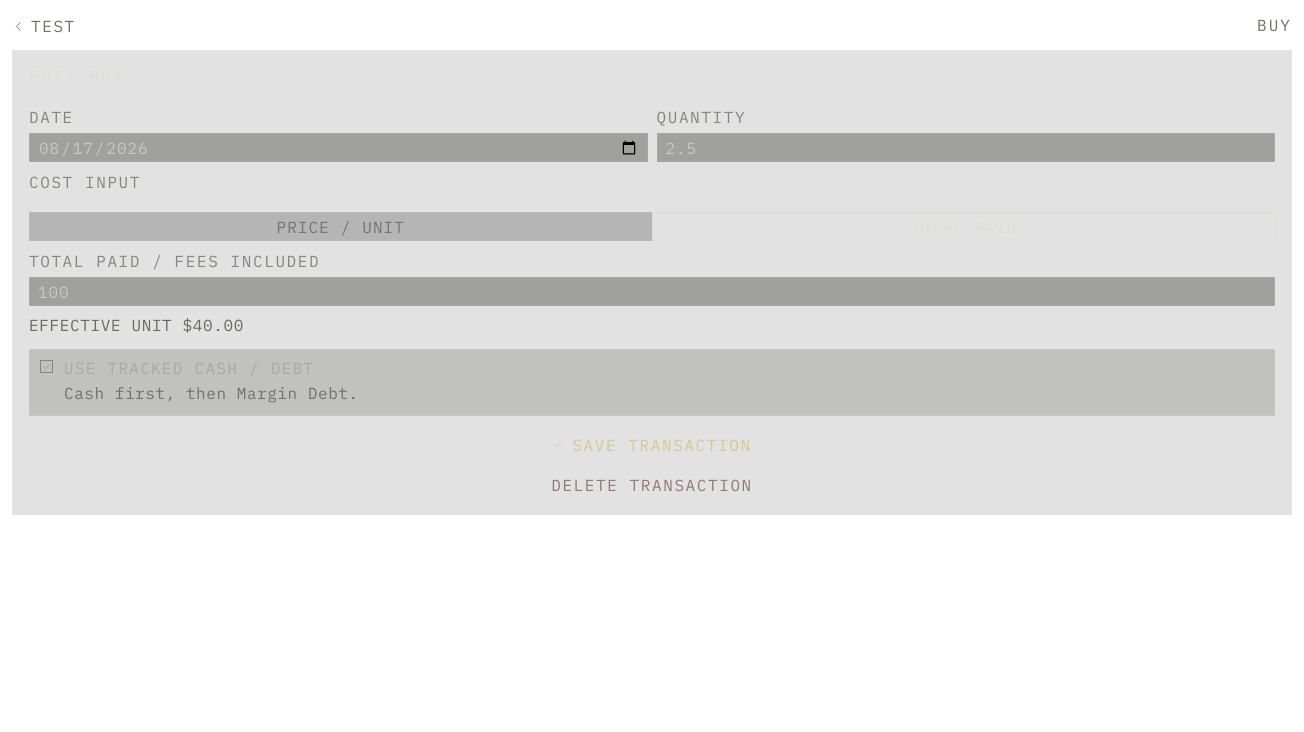
Test: per-trade Cash and Debt control › returns to position detail after a successful confirmed deletion
What coordinates should you click on to do the following:
click the button "DELETE TRANSACTION"
I would click on:
 (652, 485)
Its box is [29,471,1275,498].
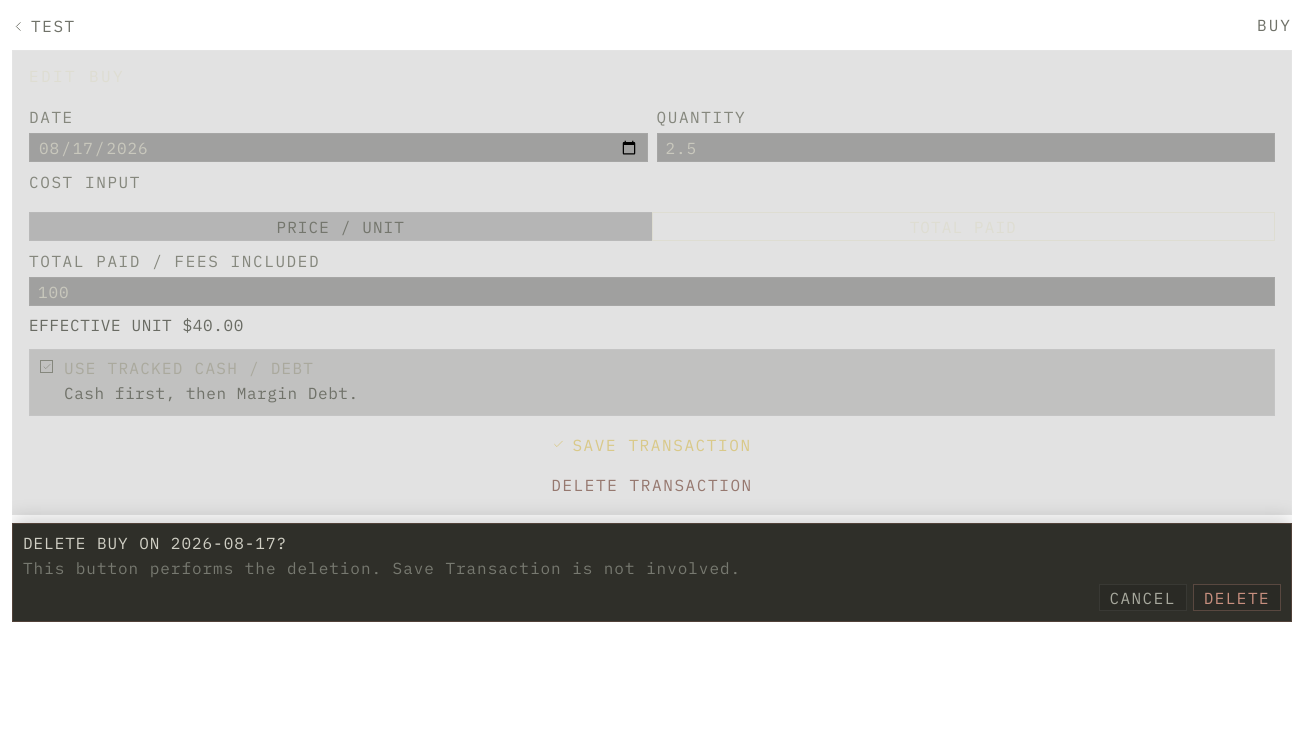
What coordinates should you click on to do the following:
click the button "DELETE"
I would click on:
 (1237, 598)
Its box is [1193,584,1281,611].
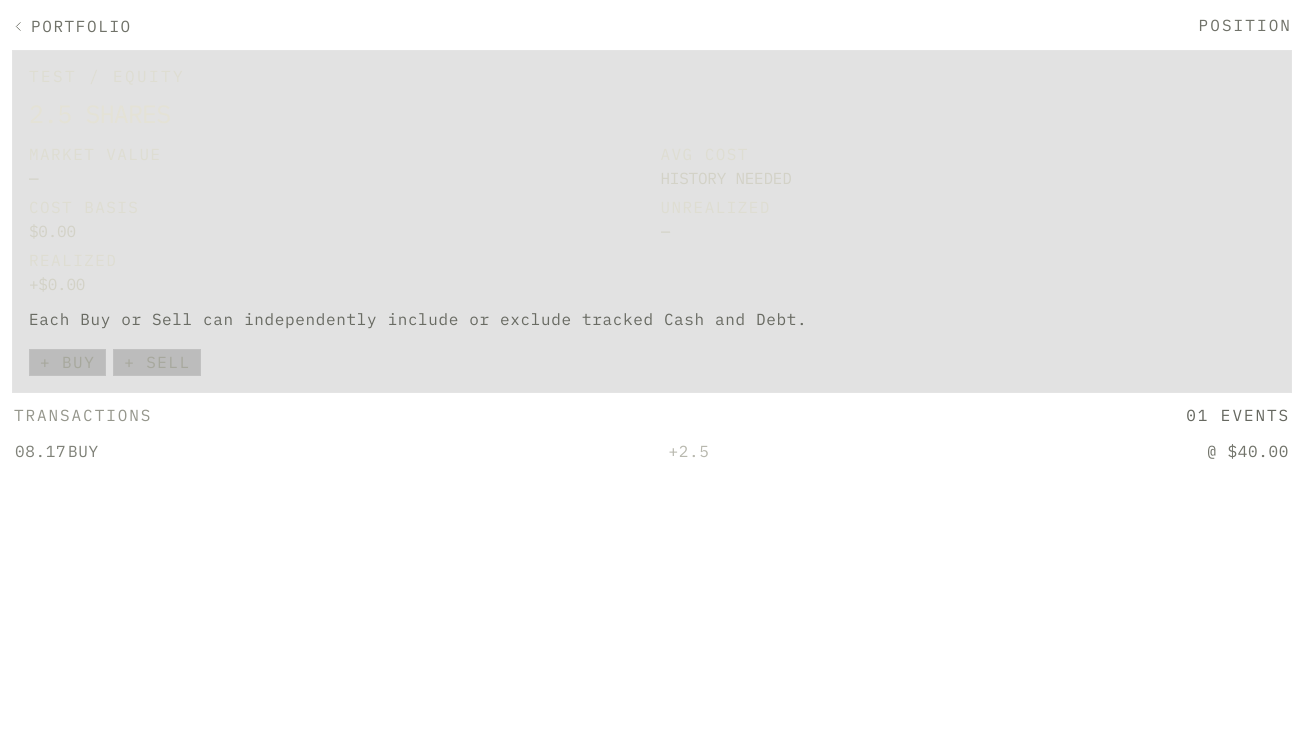
Now the text "POSITION" is shown, box [1198,16,1292,36]
Now the text "DELETE BUY ON" is gone
